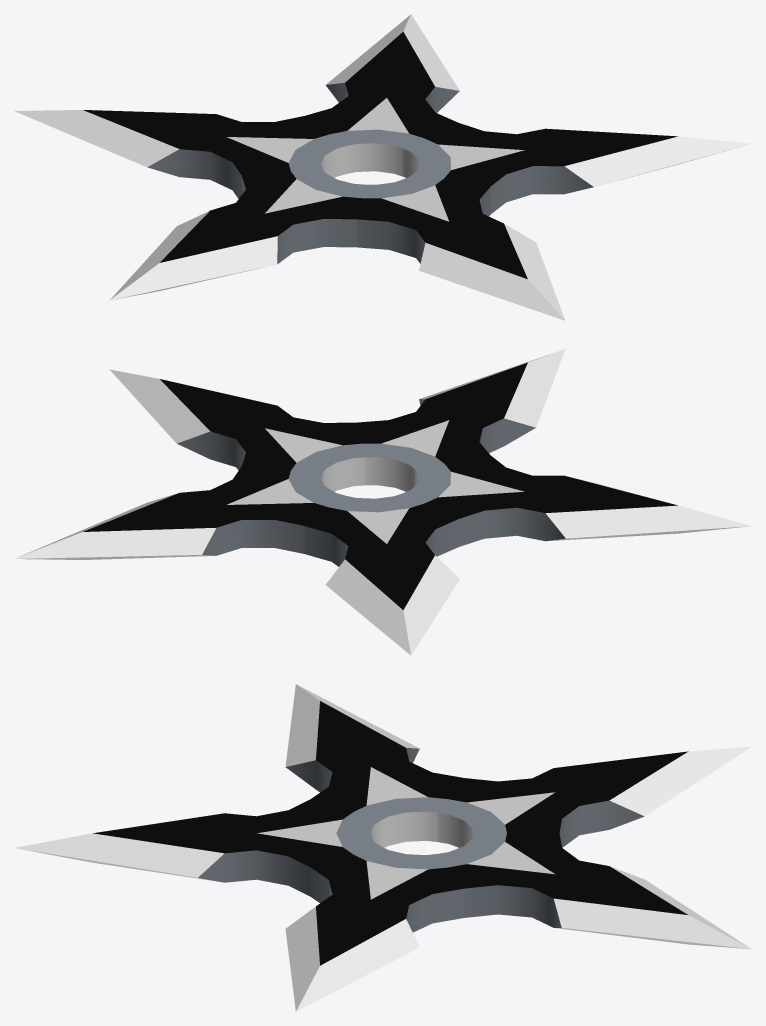
Rendered from Shuriken.fbx.
3 renders of one model, top to bottom at view 1: azimuth 30°, elevation 25°; view 2: azimuth 150°, elevation 25°; view 3: azimuth 270°, elevation 25°, orthographic. The views are drawn at different scales.
Parts seen in each view (by area): view 1: Shuriken; view 2: Shuriken; view 3: Shuriken.
Part boxes in pixels (x1=…): Shuriken: x1=14, y1=14, x2=751, y2=320; Shuriken: x1=14, y1=349, x2=751, y2=655; Shuriken: x1=15, y1=684, x2=751, y2=1011.
Size of the model in its own units: 120 by 5 by 114.
